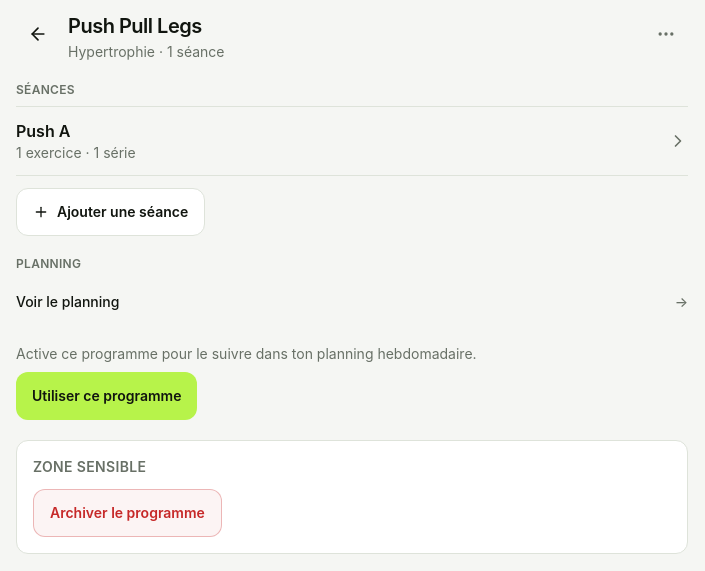
Scenario: ProgramDetailPage › opens focused session editor from the list
The image size is (705, 571).
Expected: the text "Push A" is shown, [16,121,70,141]
Click the button "Push A 1 exercice · 1 série" at (43, 131), box [16,107,688,175]
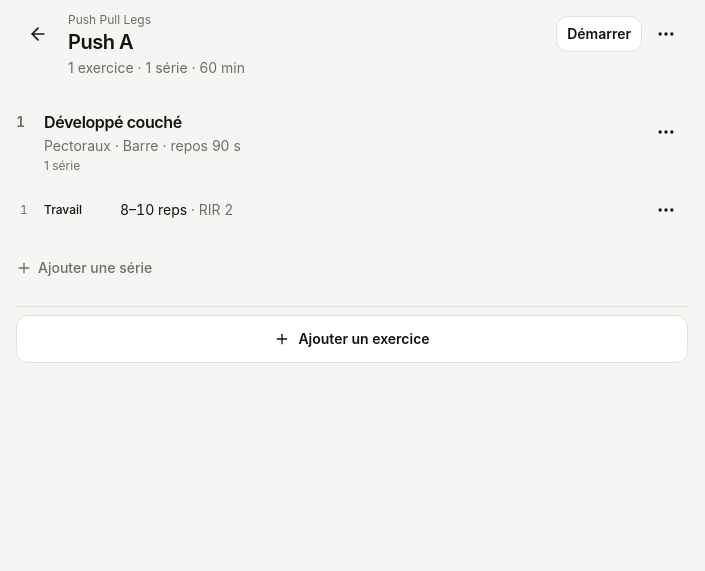
Expected: the heading "Push A" is shown, [68,30,133,54]
Expected: the button "Ajouter un exercice" is shown, [16,315,688,363]
Expected: the heading "Développé couché" is shown, [44,112,182,132]
